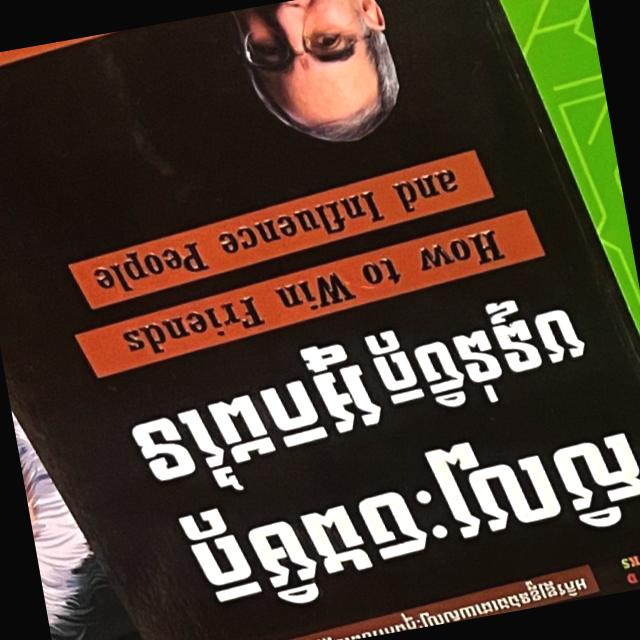Yolov11_80vkh: (109, 277, 595, 519), (168, 390, 640, 637)
